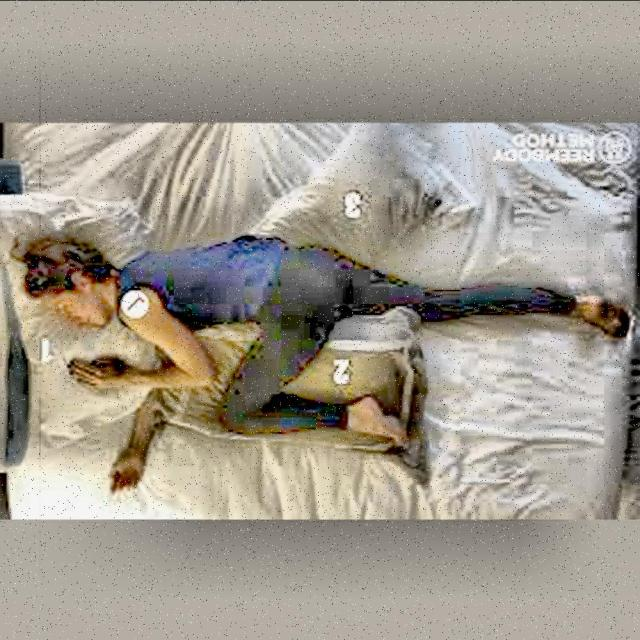Not_Supine: (11, 236, 630, 488)
